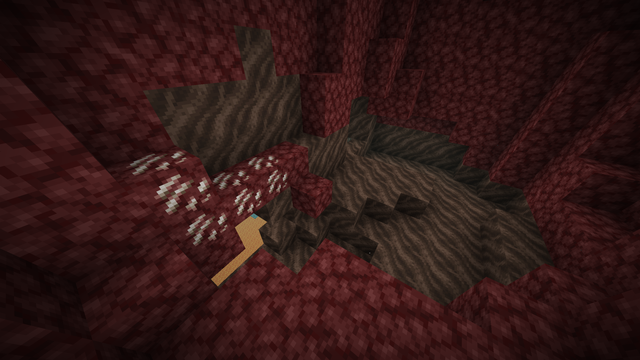quartz: (122, 146, 289, 249)
